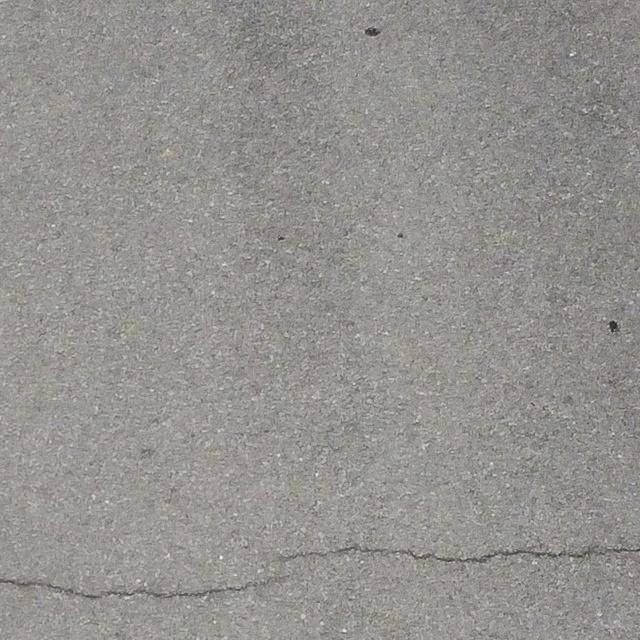TransverseCrack: (1, 574, 288, 598), (278, 546, 640, 563)
